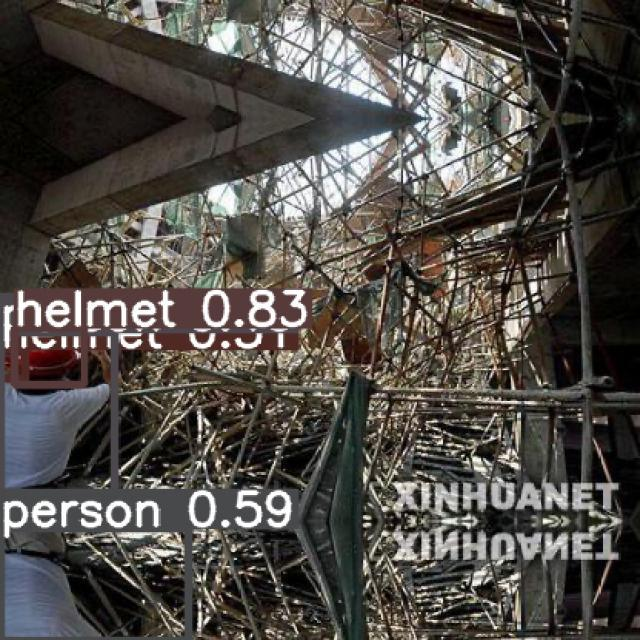Helmet: (3, 344, 79, 379)
